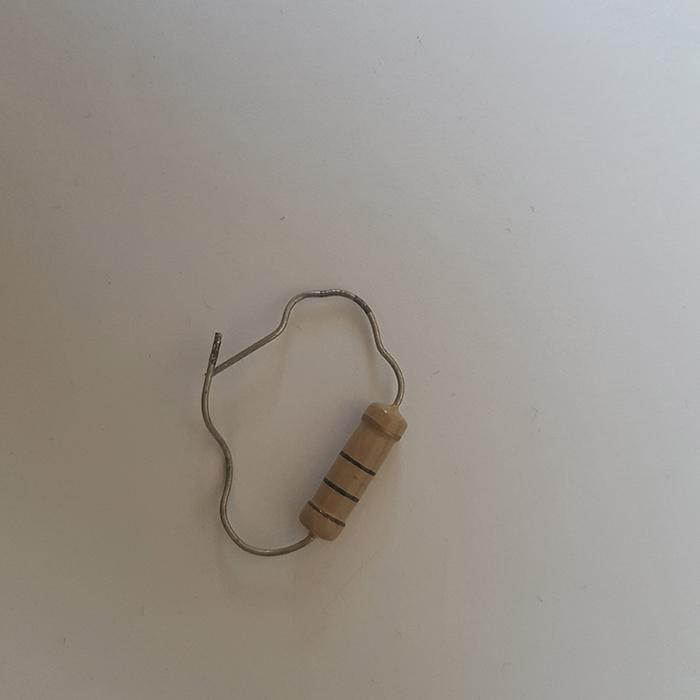resistor: (297, 399, 408, 542)
